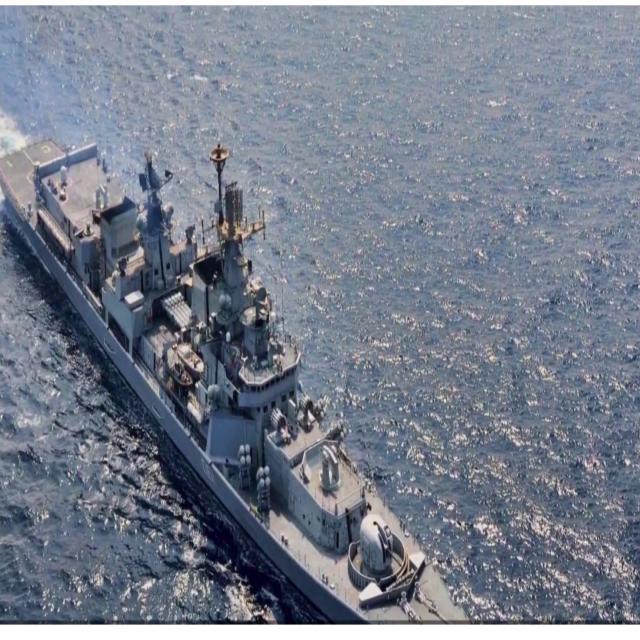OCR: (194, 449, 220, 491)
